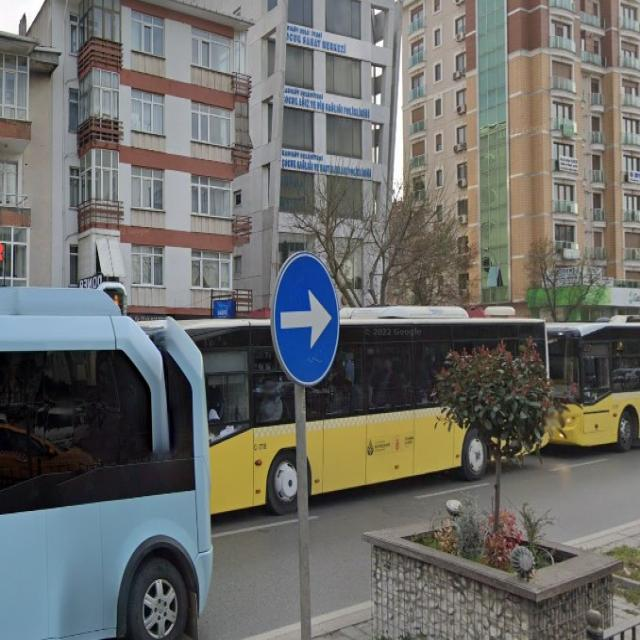Turn Right: (273, 256, 339, 388)
